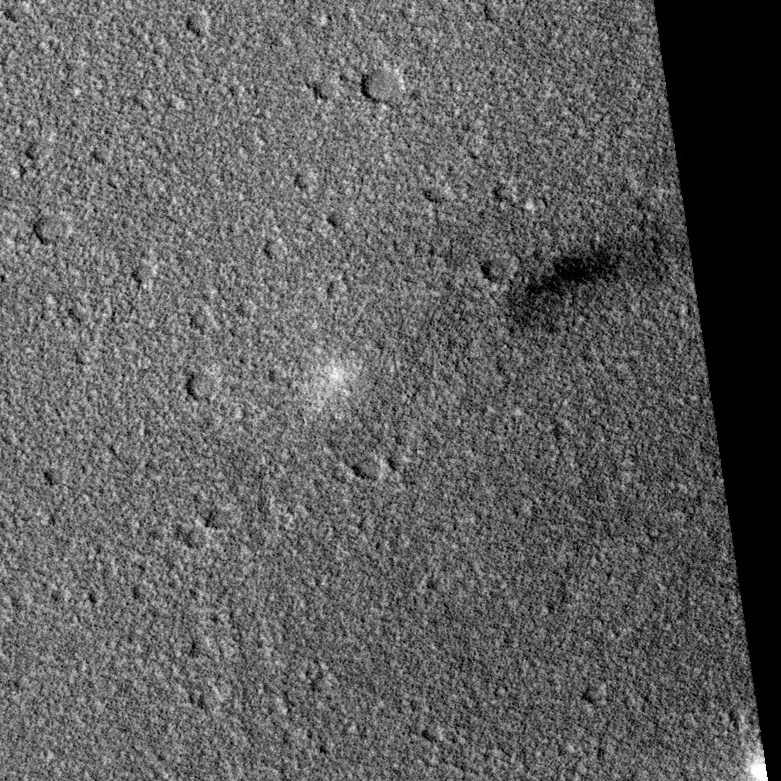dust_devil: (285, 207, 679, 424)
